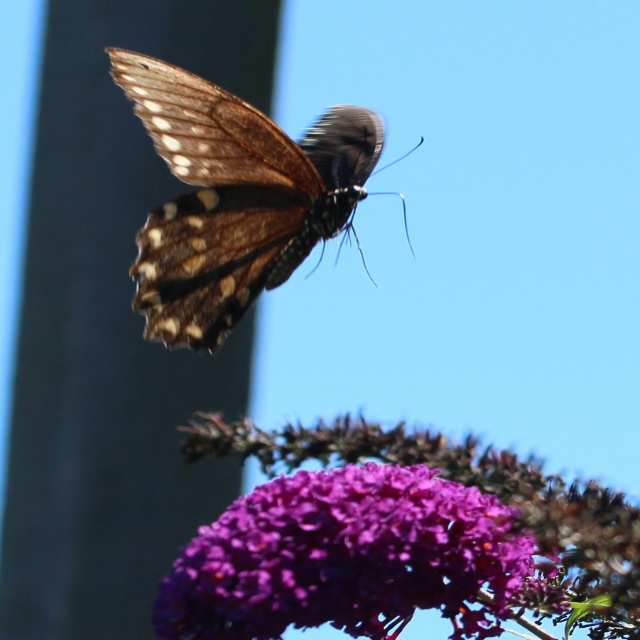Butterfly: (99, 43, 431, 350)
